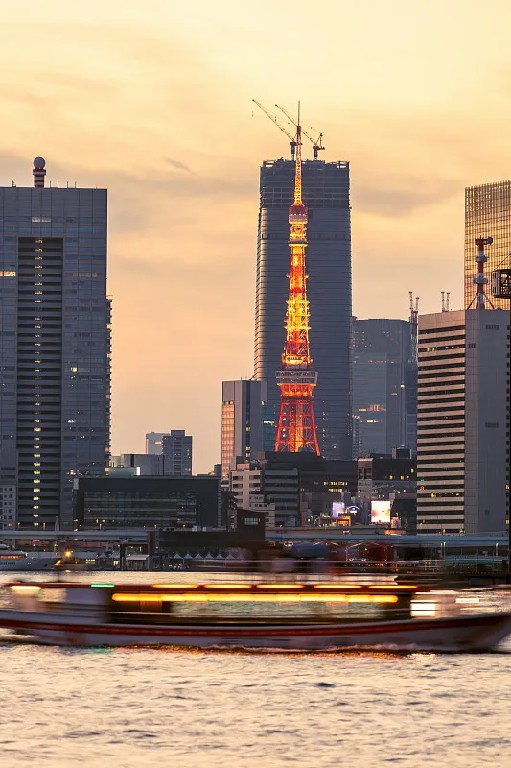Tokyo: (272, 97, 323, 460)
